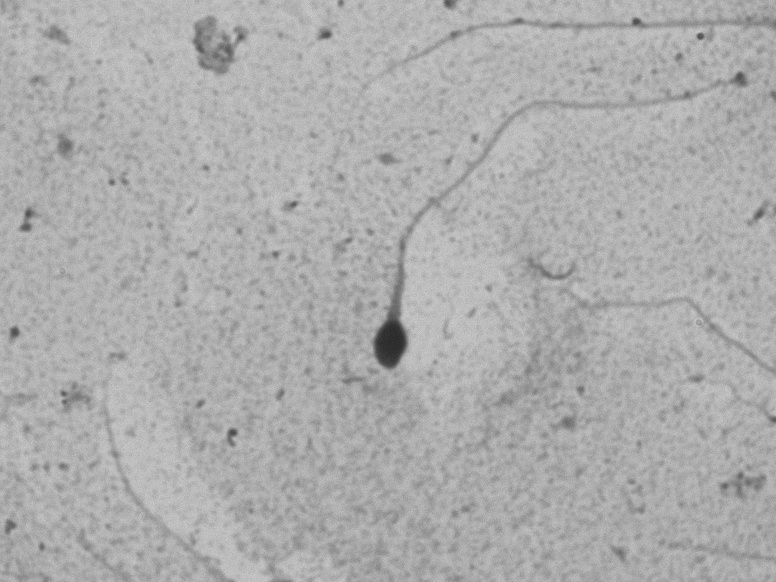Abnormal: (336, 69, 720, 422)
